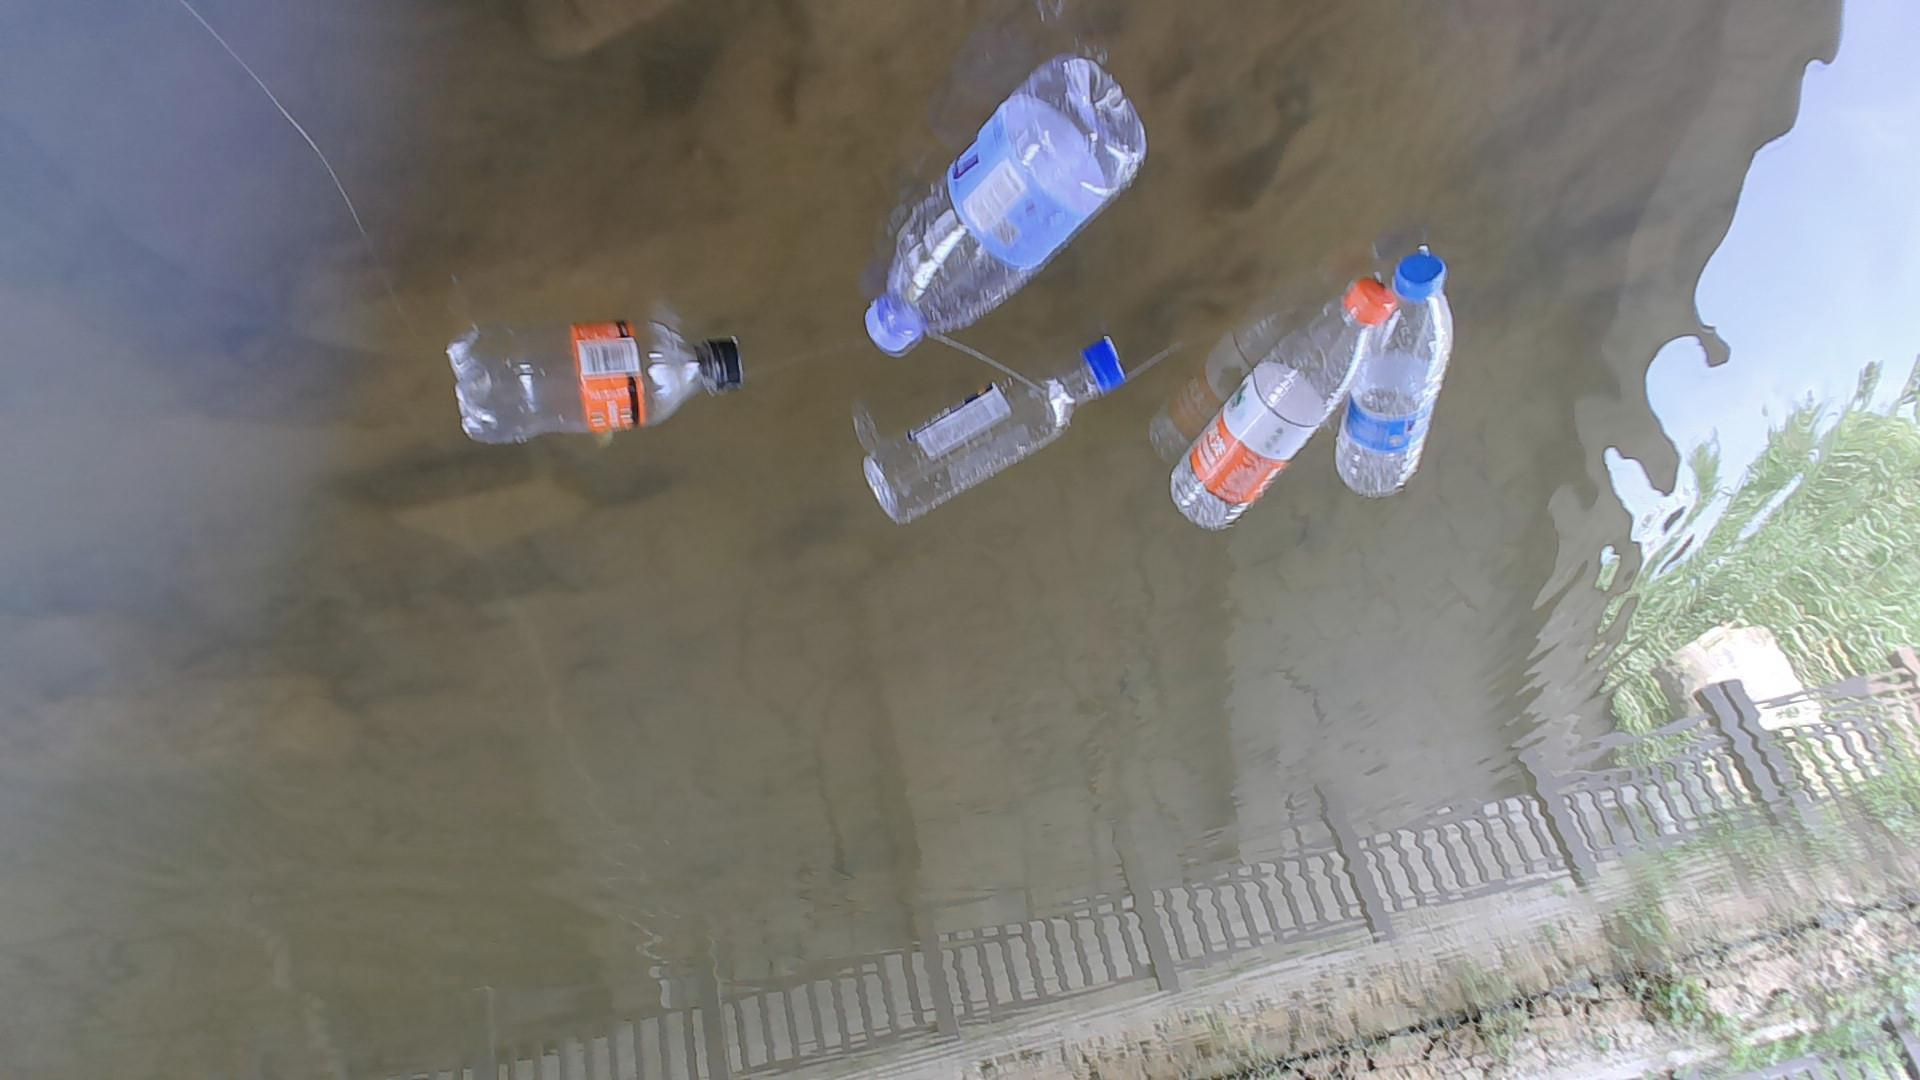Plastic: (857, 50, 1149, 356), (1168, 273, 1400, 535), (855, 348, 1131, 537), (444, 313, 750, 450), (1335, 247, 1453, 518)
